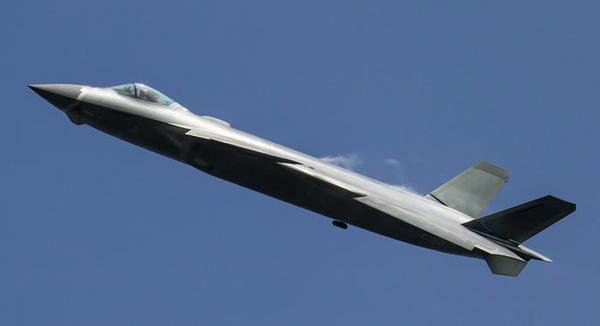airplane: (27, 74, 578, 285)
